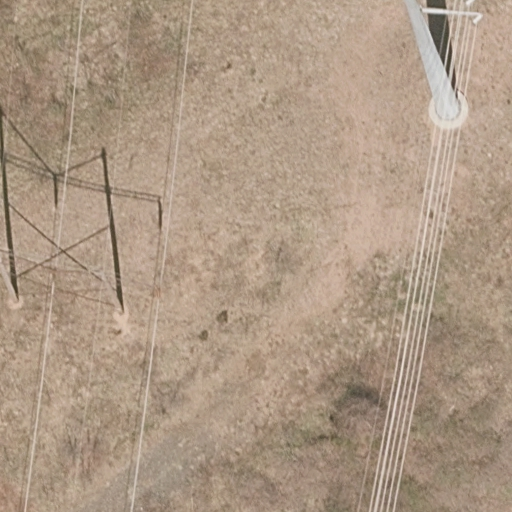TT: (1, 247, 163, 322), (406, 1, 483, 131)
